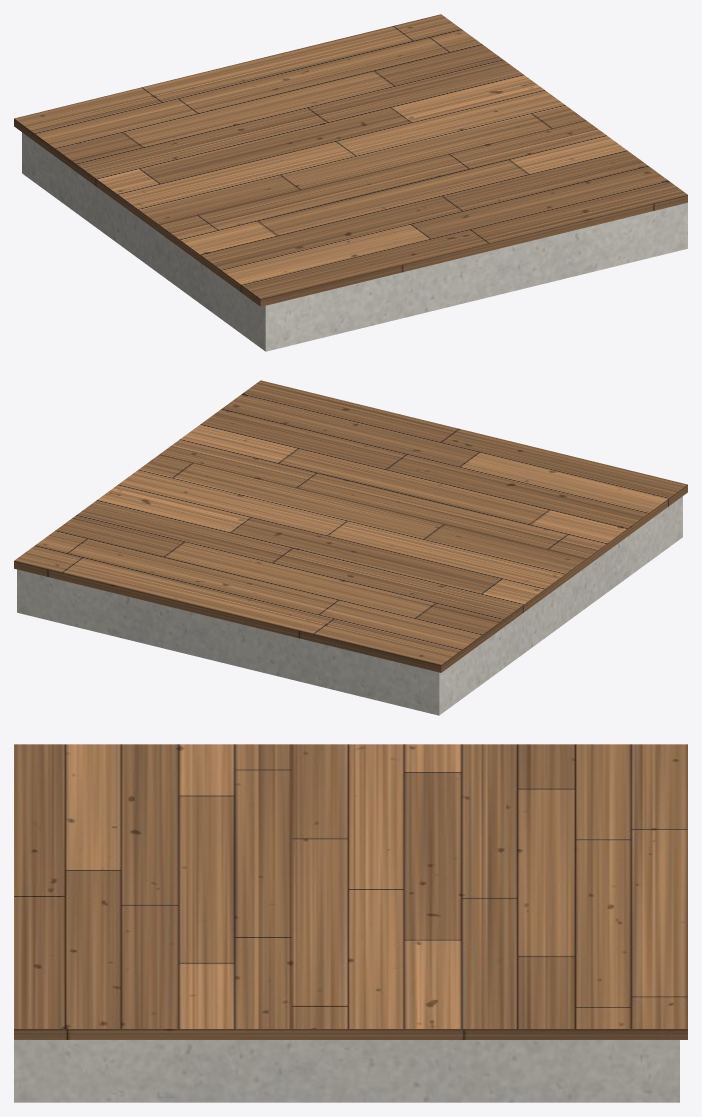
The model's file is floor_wood_u_e0_30_0_30.glb.
3 renders of one model, top to bottom at view 1: azimuth 30°, elevation 25°; view 2: azimuth 150°, elevation 25°; view 3: azimuth 270°, elevation 25°, orthographic. The views are drawn at different scales.
Visible parts, largest first — view 1: floor_wood_u_e0_30_0_30_floor, floor_wood_u_e0_30_0_30_plaster; view 2: floor_wood_u_e0_30_0_30_floor, floor_wood_u_e0_30_0_30_plaster; view 3: floor_wood_u_e0_30_0_30_floor, floor_wood_u_e0_30_0_30_plaster.
Boxes of the visible parts, x1=… form: floor_wood_u_e0_30_0_30_floor: x1=14, y1=14, x2=687, y2=306; floor_wood_u_e0_30_0_30_plaster: x1=22, y1=132, x2=687, y2=351; floor_wood_u_e0_30_0_30_floor: x1=14, y1=380, x2=687, y2=672; floor_wood_u_e0_30_0_30_plaster: x1=17, y1=496, x2=682, y2=715; floor_wood_u_e0_30_0_30_floor: x1=14, y1=744, x2=687, y2=1039; floor_wood_u_e0_30_0_30_plaster: x1=14, y1=1040, x2=679, y2=1102.
Size of the model in its own units: 1.7 by 0.205 by 1.7.
Materials: 2 (2 with a texture image).
